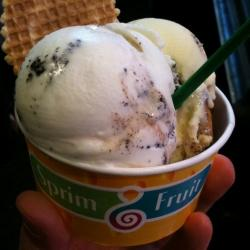icecream: (21, 16, 223, 162)
